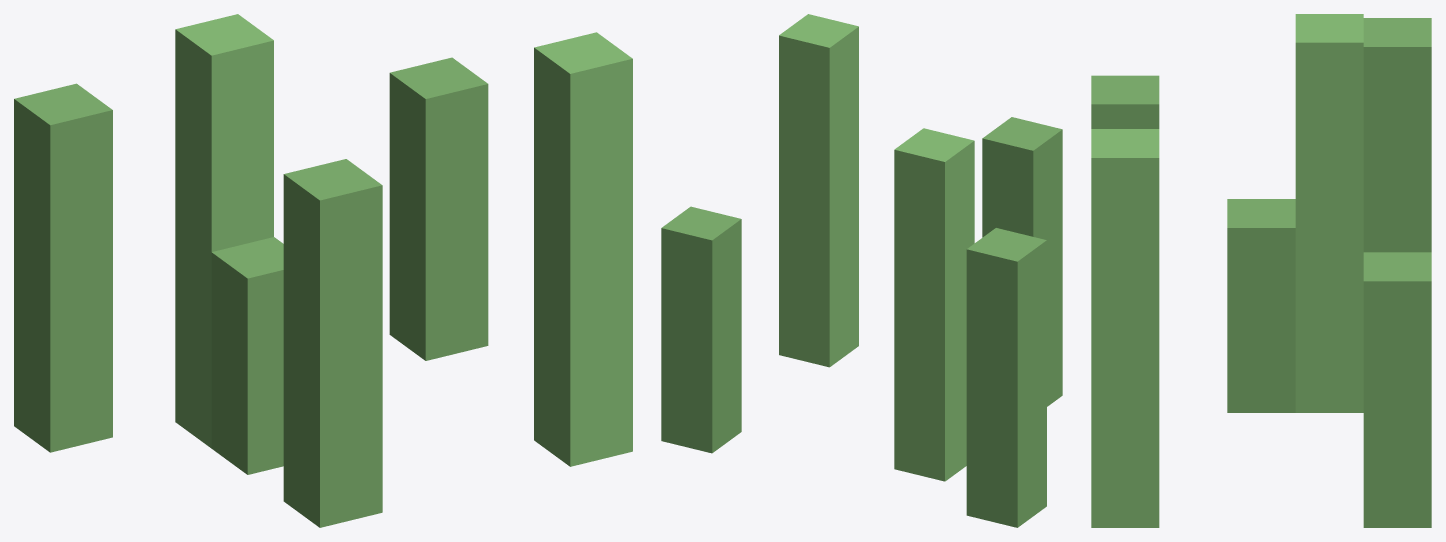
Rendered from trebol_04.glb.
3 views of the same model, side by side, from view 1: azimuth 30°, elevation 25°; view 2: azimuth 150°, elevation 25°; view 3: azimuth 270°, elevation 25° (orthographic). The views are drawn at different scales.
Parts seen in each view (by area): view 1: trebol_04; view 2: trebol_04; view 3: trebol_04.
Part boxes in pixels (x1,y1,x2,y2): trebol_04: [14, 14, 632, 527]; trebol_04: [661, 14, 1062, 527]; trebol_04: [1091, 14, 1431, 527].
Size of the model in its own units: 0.7 by 0.6 by 0.5.
